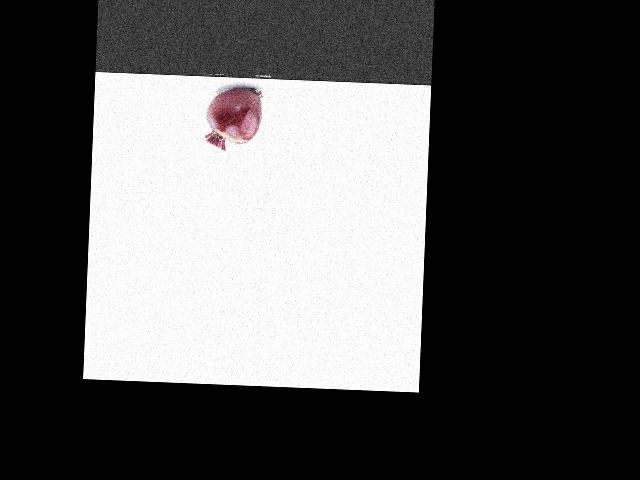beet: (204, 87, 262, 151)
